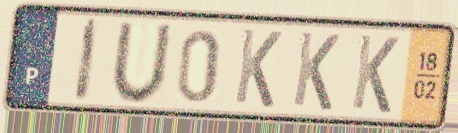0: (174, 27, 227, 104)
I: (72, 14, 103, 106)
K: (231, 25, 285, 111), (290, 28, 343, 114), (349, 31, 402, 117)
U: (109, 21, 175, 106)
